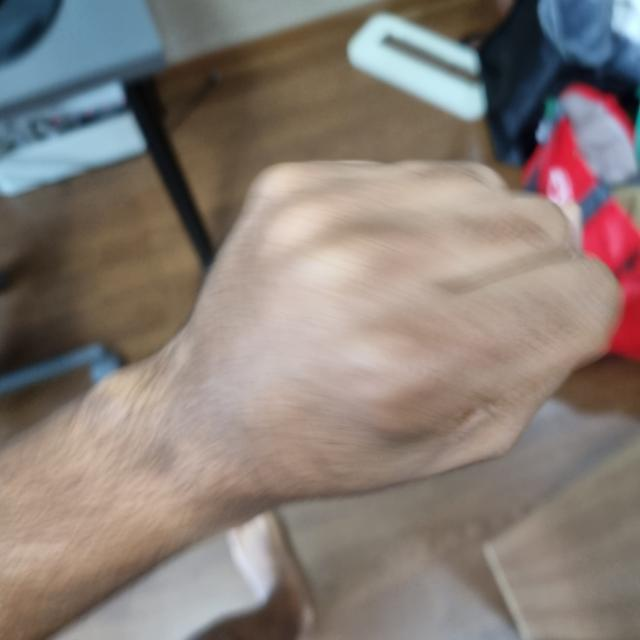Rock: (167, 161, 613, 495)
